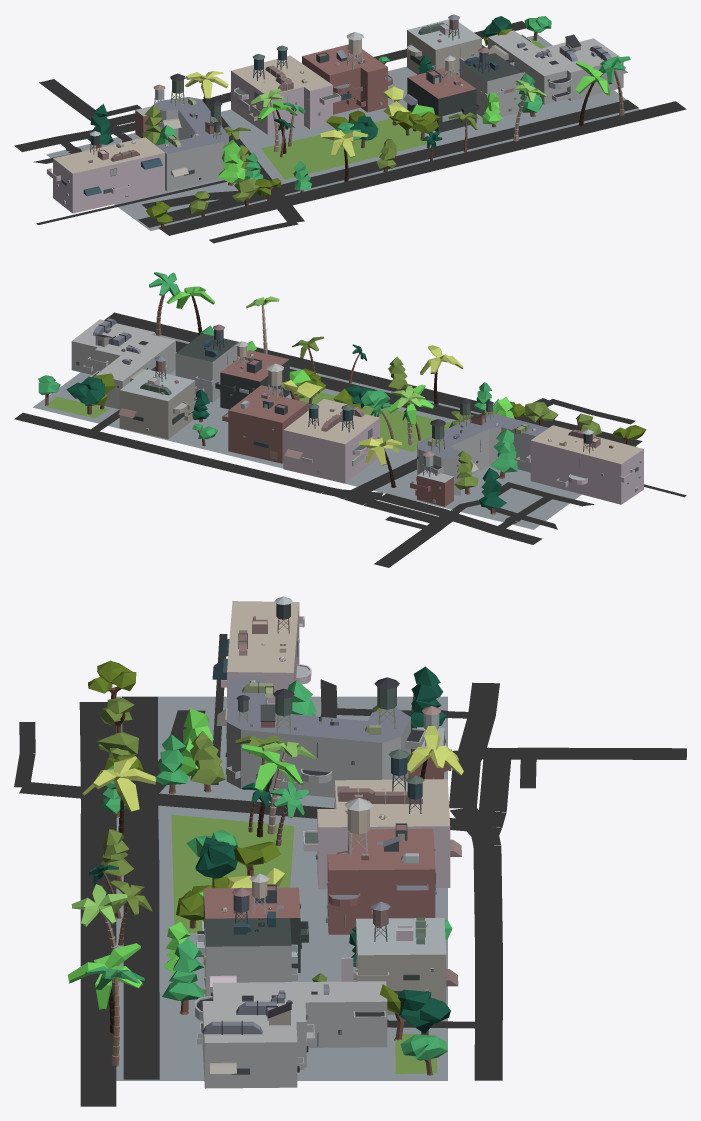
Rendered from SJ_Env5.fbx.
3 views of the same model, one above another, from view 1: azimuth 30°, elevation 25°; view 2: azimuth 150°, elevation 25°; view 3: azimuth 270°, elevation 25° (orthographic). The views are drawn at different scales.
Visible parts, largest first — view 1: SJ_Env5; view 2: SJ_Env5; view 3: SJ_Env5.
Boxes of the visible parts, x1,y1,x2,y2 form: SJ_Env5: [14, 14, 686, 243]; SJ_Env5: [14, 272, 686, 567]; SJ_Env5: [14, 596, 686, 1106].
Bounding box in the file's own units: 9842 × 1185 × 5922.
